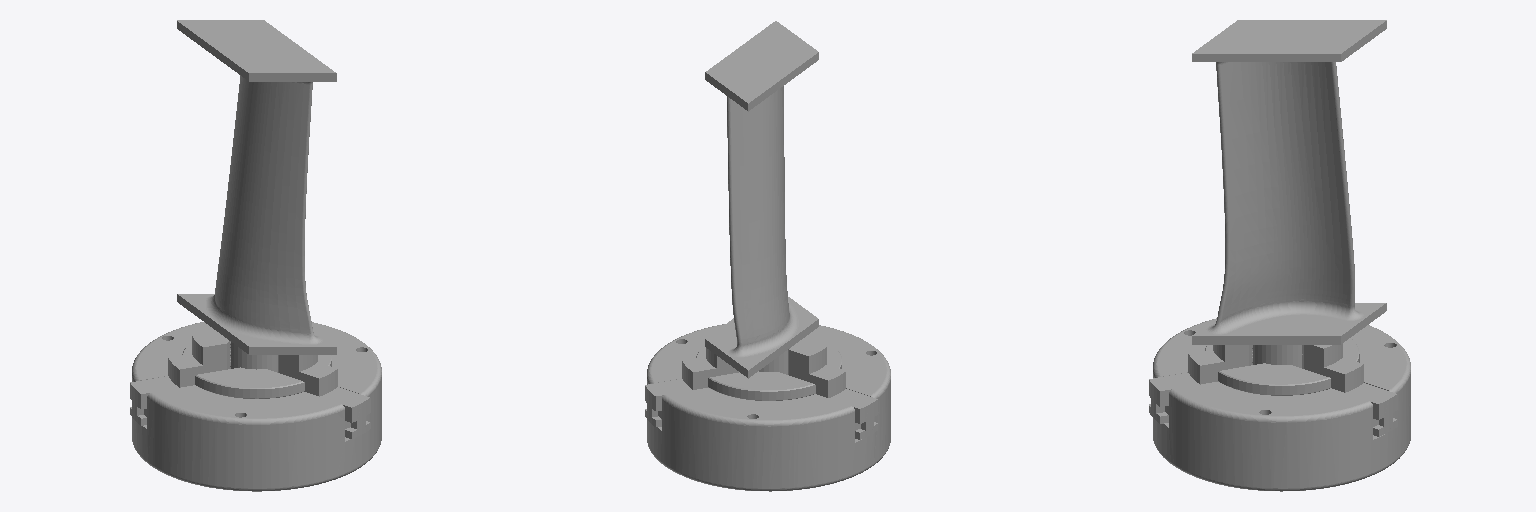
robot.urdf — myobj:
<robot name="myobj">
      <link name="tray_base_link">
        <inertial>
          <origin rpy="0 0 0" xyz="0 0 0"/>
          <mass value="0"/>
          <inertia ixx="0" ixy="0" ixz="0" iyy="0" iyz="0" izz="0"/>
        </inertial>
        <visual>
          <origin rpy="0 0 0" xyz="0 0 0"/>
          <geometry>
            <mesh filename="../mould/blade0.obj" scale="0.001 0.001 0.001"/>
      </geometry>
          <material name="tray_material">
            <color rgba="0.7 0.7 0.7 1"/>
          </material>
        </visual>
      </link>
    </robot>

--- Render facts (derived) ---
Views: 3 orthographic renders of the robot side by side, from view 1: azimuth 30°, elevation 25°; view 2: azimuth 150°, elevation 25°; view 3: azimuth 270°, elevation 25°.
Robot: myobj — 1 links, 0 joints (none); root link tray_base_link; default pose: all joints at 0.
Links seen in each view (by area): view 1: tray_base_link; view 2: tray_base_link; view 3: tray_base_link.
Link boxes in pixels (box(x1,y1,x2,y2)): tray_base_link: box(130, 20, 381, 491); tray_base_link: box(645, 21, 890, 491); tray_base_link: box(1149, 20, 1410, 491).
Size in the robot's own frame: 0.2563 by 0.2538 by 0.4297 metres.
Meshes: 1 distinct files referenced, 1 mesh visuals loaded (1 OBJ).